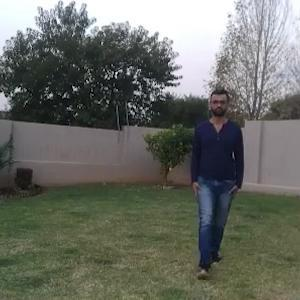follow: (188, 91, 242, 259)
